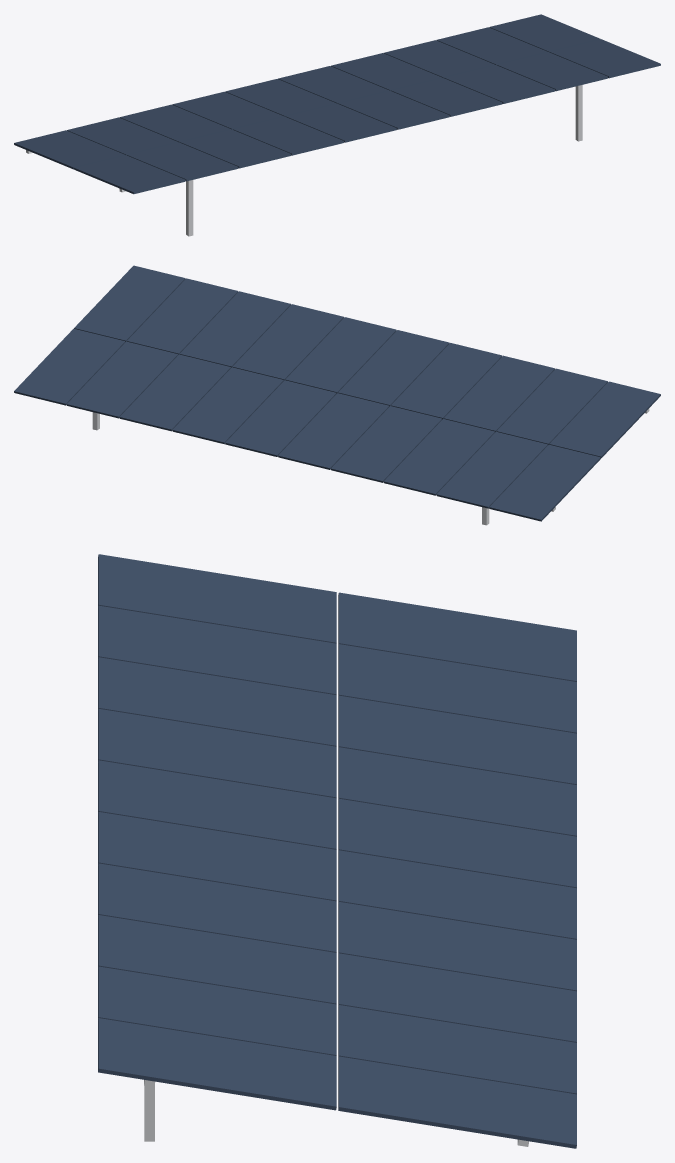
File: solar-table.glb
3 renders of one model, top to bottom at view 1: azimuth 30°, elevation 25°; view 2: azimuth 150°, elevation 25°; view 3: azimuth 270°, elevation 25°, orthographic. The views are drawn at different scales.
Visible parts, largest first — view 1: solar-table; view 2: solar-table; view 3: solar-table.
Part boxes in pixels (box(x1,y1,x2,y2)): solar-table: box(14, 14, 660, 236); solar-table: box(14, 265, 660, 525); solar-table: box(98, 554, 576, 1148).
Bounding box in the file's own units: 11.48 × 1.43 × 4.52.
